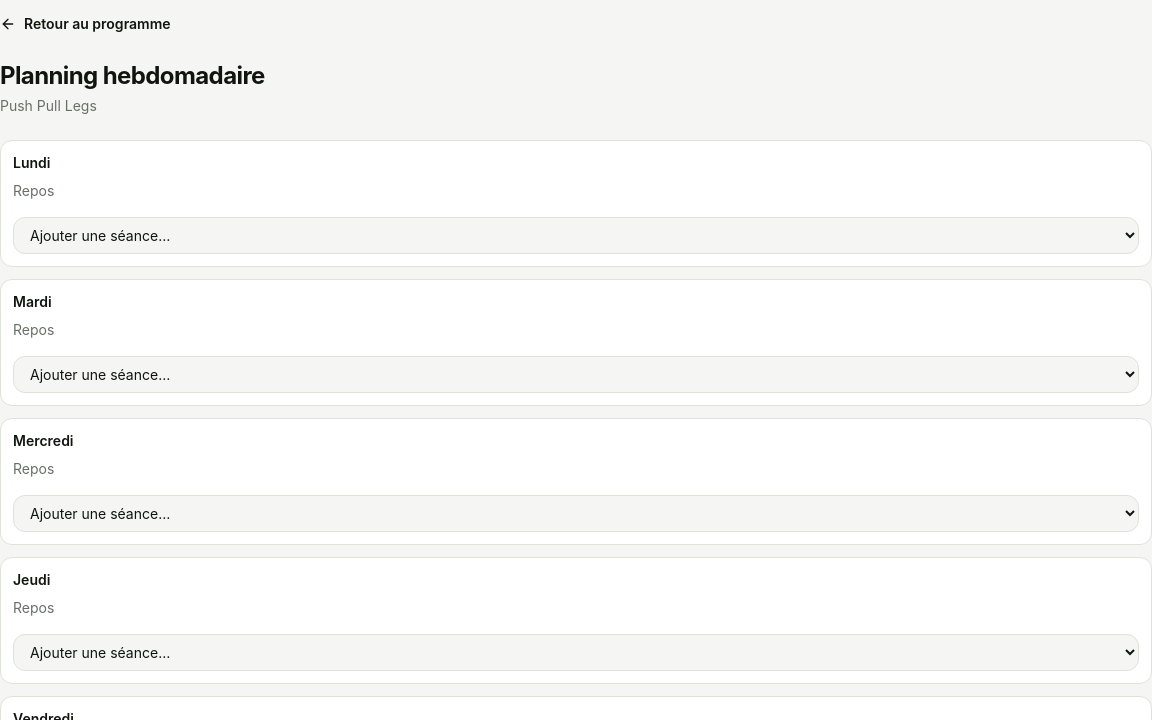
Scenario: ProgramScheduleEditPage › adds, reorders and saves schedule entries
The width and height of the screenshot is (1152, 720).
expect the heading "Planning hebdomadaire" is shown: met, box 0,61 -> 265,90
Select "Push A" in the dropdown below "Lundi" at (576, 236), box 13,217 -> 1139,254
(page scrolled)
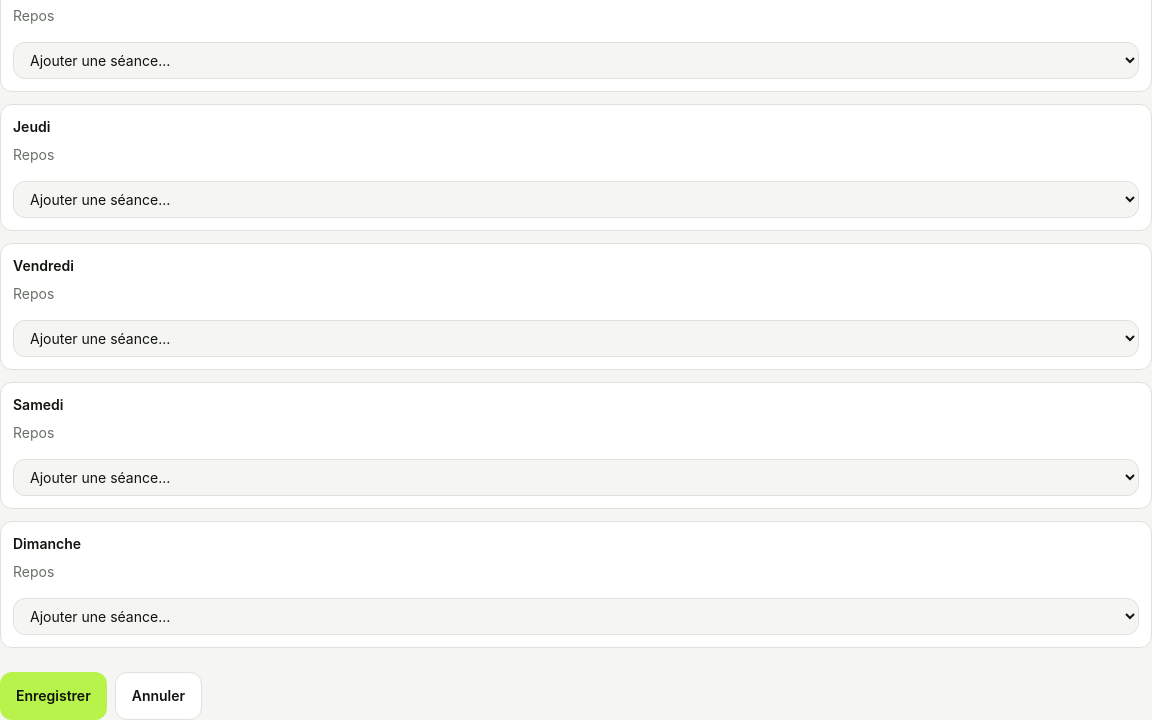
Click the button "Enregistrer" at (53, 696), box 0,672 -> 107,719
(page scrolled)
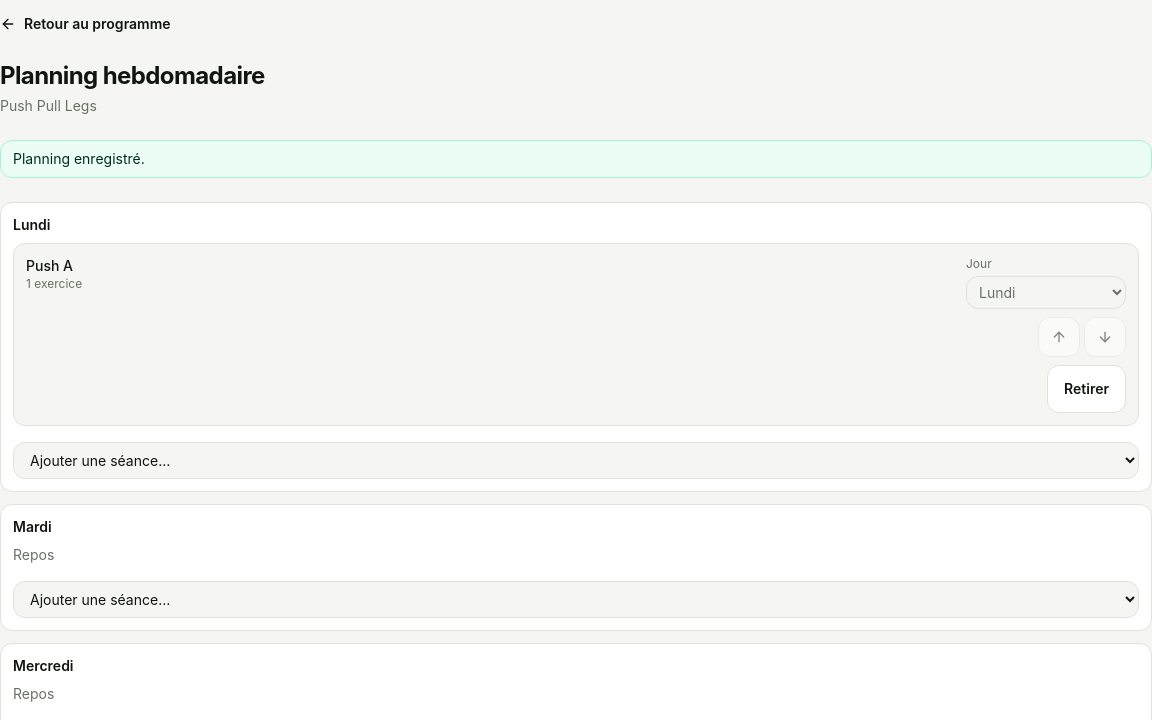
expect the text "Planning enregistré." is shown: met, box 0,140 -> 1151,178
